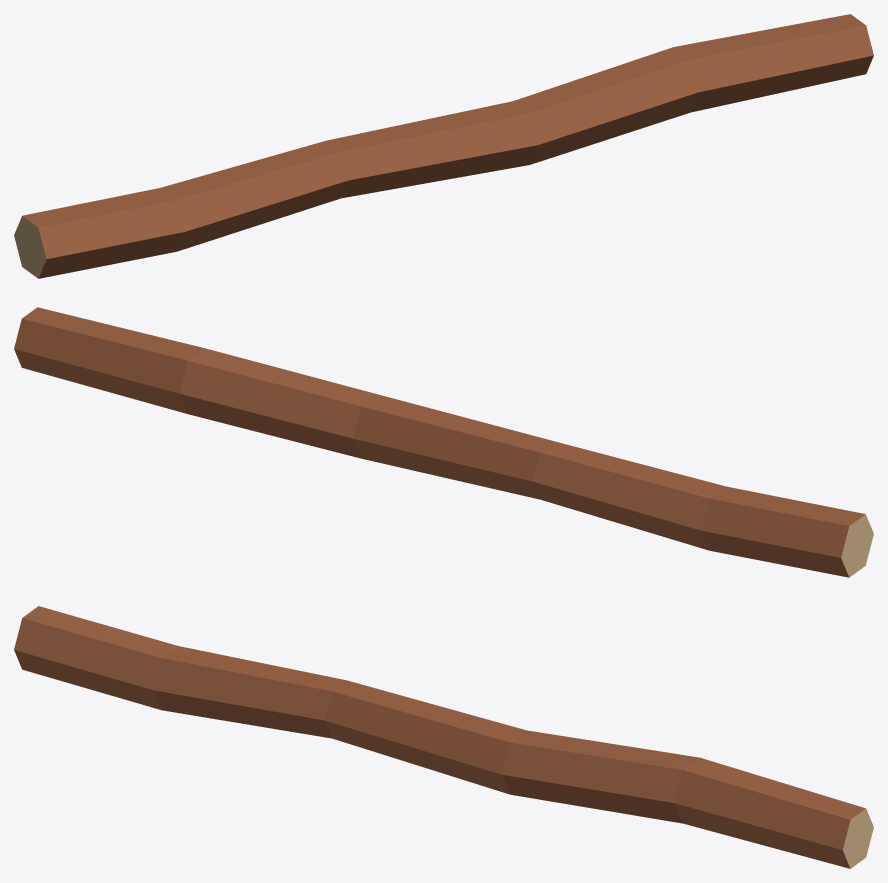
Rendered from wood_stick.fbx.
3 renders of one model, top to bottom at view 1: azimuth 30°, elevation 25°; view 2: azimuth 150°, elevation 25°; view 3: azimuth 330°, elevation 25°, orthographic.
Visible parts, largest first — view 1: wood_stick; view 2: wood_stick; view 3: wood_stick.
Boxes of the visible parts, x1,y1,x2,y2 form: wood_stick: (14, 14, 873, 278); wood_stick: (14, 307, 873, 577); wood_stick: (14, 606, 873, 868).
Size of the model in its own units: 93.14 by 7 by 7.64.
